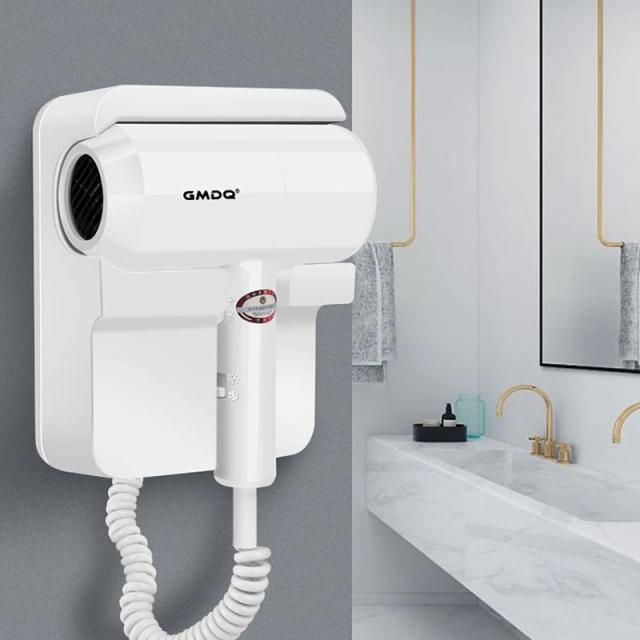dryer: (21, 79, 383, 638), (31, 91, 377, 481)
